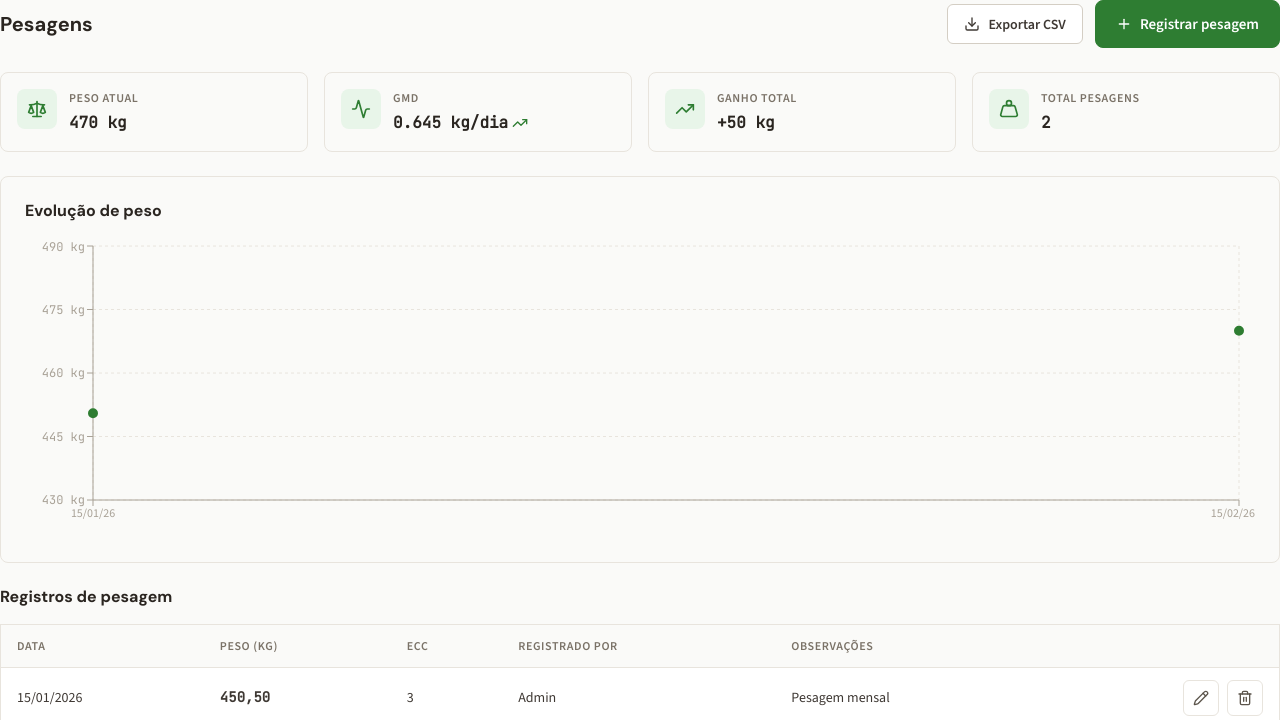
WeighingTab › opens edit modal when clicking edit on a record
Click the button named "Editar pesagem": x=1201, y=698 [1183,680,1219,716]
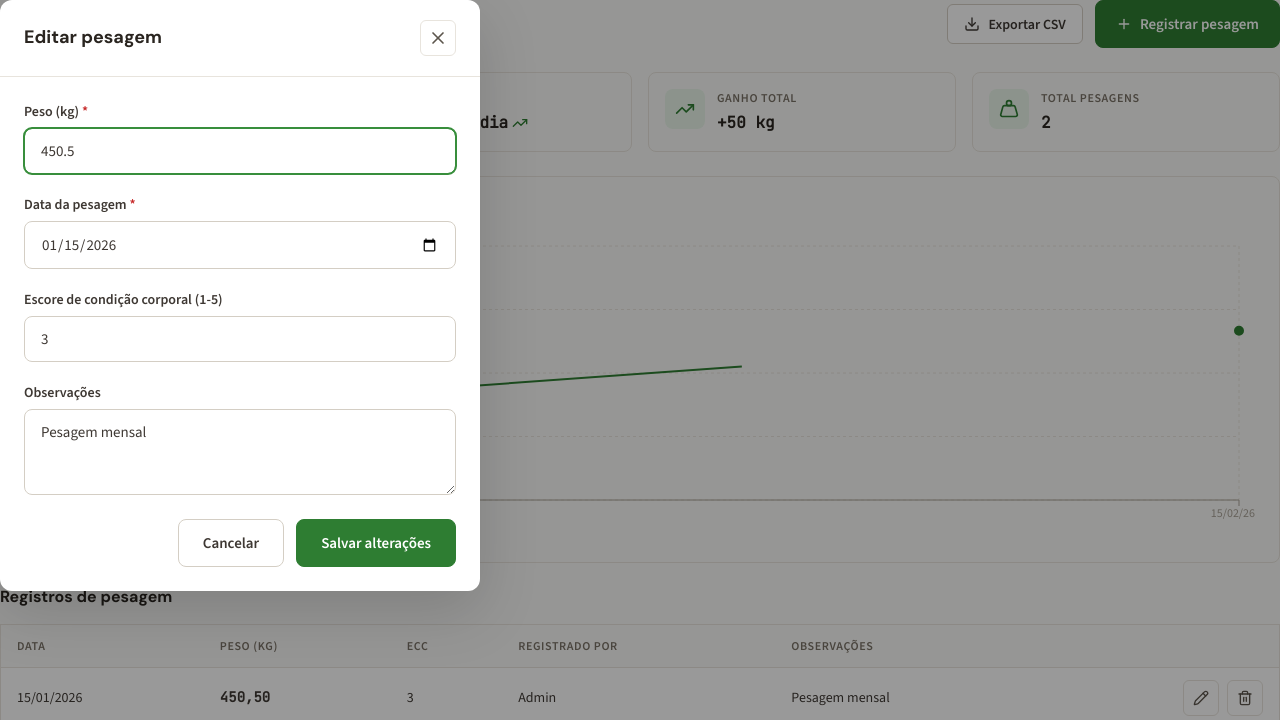
Check: the heading "Editar pesagem" is shown, box [24,26,162,50]
